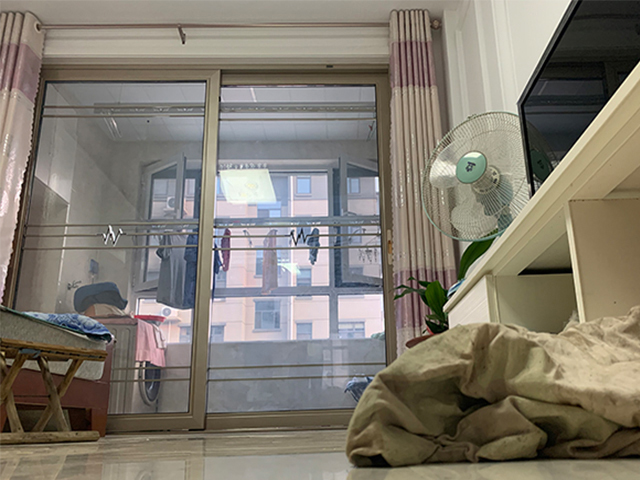curtain: (389, 9, 457, 359)
stool: (1, 335, 107, 444)
